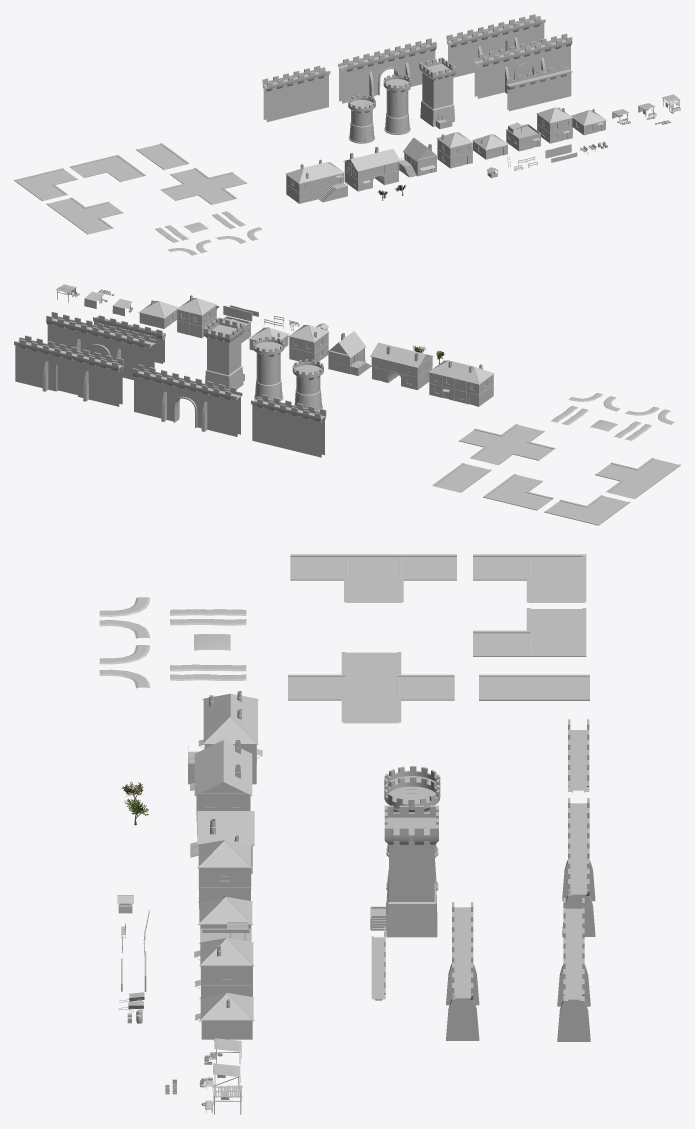
File: Medieval_Pack.fbx
The picture shows the model from 3 angles, top to bottom: view 1: azimuth 30°, elevation 25°; view 2: azimuth 150°, elevation 25°; view 3: azimuth 270°, elevation 25°; orthographic projection. The views are drawn at different scales.
Parts seen in each view (by area): view 1: wall_door_3_Cylinder.042, wall_door_1_Cylinder.044, wall_door_2_Cylinder.043, wall_1_Cylinder.048, tower_3_Cylinder.045, walls.038_Cylinder.041, house_1_Cylinder.016, brick_road_2_Cylinder.050, house_2_Cylinder.015, brick_road_1_Cylinder.053, tower_2_Cylinder.046, tower_1_Cylinder.047 (+9 smaller); view 2: wall_door_2_Cylinder.043, wall_door_1_Cylinder.044, wall_door_3_Cylinder.042, wall_1_Cylinder.048, tower_3_Cylinder.045, house_1_Cylinder.016, brick_road_2_Cylinder.050, house_2_Cylinder.015, brick_road_1_Cylinder.053, tower_2_Cylinder.046, brick_road_3_Cylinder.052, brick_road_5_Cylinder.051 (+8 smaller); view 3: brick_road_2_Cylinder.050, tower_3_Cylinder.045, brick_road_1_Cylinder.053, brick_road_3_Cylinder.052, brick_road_5_Cylinder.051, house_2_Cylinder.015, wall_door_2_Cylinder.043, wall_door_3_Cylinder.042, house_1_Cylinder.016, house_4_Cylinder.013, wall_door_1_Cylinder.044, brick_road_4_Cylinder.049 (+8 smaller).
Part boxes in pixels (bbox=[...]): wall_door_3_Cylinder.042: bbox=[473, 33, 572, 98]; wall_door_1_Cylinder.044: bbox=[338, 38, 436, 103]; wall_door_2_Cylinder.043: bbox=[446, 14, 545, 77]; wall_1_Cylinder.048: bbox=[262, 65, 330, 121]; tower_3_Cylinder.045: bbox=[419, 57, 456, 129]; walls.038_Cylinder.041: bbox=[506, 65, 572, 111]; house_1_Cylinder.016: bbox=[285, 159, 347, 203]; brick_road_2_Cylinder.050: bbox=[160, 168, 246, 204]; house_2_Cylinder.015: bbox=[343, 146, 400, 191]; brick_road_1_Cylinder.053: bbox=[46, 197, 123, 234]; tower_2_Cylinder.046: bbox=[383, 74, 411, 134]; tower_1_Cylinder.047: bbox=[348, 95, 375, 143]; wall_door_2_Cylinder.043: bbox=[14, 335, 123, 406]; wall_door_1_Cylinder.044: bbox=[132, 364, 242, 436]; wall_door_3_Cylinder.042: bbox=[46, 311, 155, 380]; wall_1_Cylinder.048: bbox=[251, 394, 326, 457]; tower_3_Cylinder.045: bbox=[203, 317, 244, 389]; house_1_Cylinder.016: bbox=[428, 360, 494, 406]; brick_road_2_Cylinder.050: bbox=[459, 424, 555, 464]; house_2_Cylinder.015: bbox=[370, 342, 433, 389]; brick_road_1_Cylinder.053: bbox=[595, 458, 680, 498]; tower_2_Cylinder.046: bbox=[253, 336, 284, 401]; brick_road_3_Cylinder.052: bbox=[544, 495, 630, 525]; brick_road_5_Cylinder.051: bbox=[483, 474, 553, 510]; brick_road_2_Cylinder.050: bbox=[288, 652, 454, 723]; tower_3_Cylinder.045: bbox=[370, 805, 438, 937]; brick_road_1_Cylinder.053: bbox=[290, 554, 456, 602]; brick_road_3_Cylinder.052: bbox=[473, 554, 586, 602]; brick_road_5_Cylinder.051: bbox=[473, 608, 586, 656]; house_2_Cylinder.015: bbox=[190, 740, 252, 835]; wall_door_2_Cylinder.043: bbox=[557, 898, 590, 1041]; wall_door_3_Cylinder.042: bbox=[446, 902, 479, 1040]; house_1_Cylinder.016: bbox=[188, 691, 262, 784]; house_4_Cylinder.013: bbox=[197, 835, 252, 908]; wall_door_1_Cylinder.044: bbox=[562, 798, 595, 936]; brick_road_4_Cylinder.049: bbox=[479, 674, 589, 700].
Size of the model in its own units: 1145 by 105 by 428.
